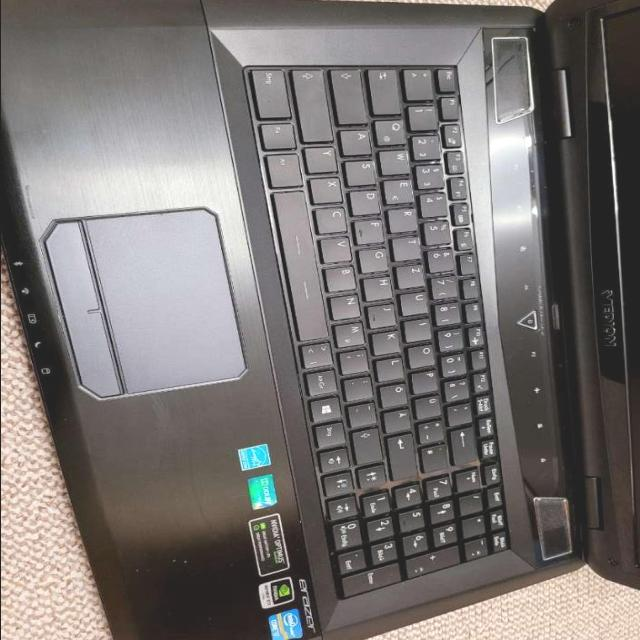0: (443, 352, 469, 376)
1: (409, 103, 441, 129)
2: (413, 132, 445, 158)
3: (417, 161, 448, 187)
4: (421, 190, 451, 215)
5: (425, 218, 454, 243)
6: (429, 246, 457, 271)
7: (433, 274, 461, 298)
8: (437, 300, 463, 324)
9: (439, 326, 467, 350)
a: (341, 126, 375, 154)
accent: (448, 401, 476, 425)
ae: (385, 406, 415, 431)
alt-left: (268, 149, 307, 187)
altgr-right: (307, 370, 339, 396)
b: (326, 263, 360, 291)
c: (316, 204, 350, 232)
caret: (406, 66, 437, 98)
comma: (341, 347, 372, 373)
d: (350, 188, 384, 214)
del: (451, 425, 480, 465)
e: (385, 176, 417, 202)
enter: (389, 431, 421, 480)
f: (355, 217, 387, 243)
g: (360, 246, 391, 272)
h: (365, 274, 395, 300)
hash: (423, 442, 451, 472)
i: (406, 317, 435, 341)
j: (368, 302, 399, 327)
k: (373, 329, 404, 354)
keyboard: (233, 43, 519, 608)
l: (377, 355, 407, 380)
less: (302, 339, 336, 367)
m: (337, 320, 369, 346)
minus: (349, 400, 380, 426)
n: (332, 292, 364, 318)
o: (408, 343, 437, 367)
oe: (381, 381, 410, 406)
p: (413, 368, 441, 392)
plus: (419, 418, 447, 442)
point: (346, 374, 377, 400)
q: (376, 116, 408, 144)
r: (389, 206, 420, 231)
s: (346, 157, 380, 185)
shift-left: (295, 68, 337, 141)
shift-lock: (332, 66, 370, 122)
shift-right: (354, 426, 386, 463)
space: (274, 189, 334, 340)
ss: (445, 377, 473, 400)
strg-left: (252, 64, 294, 118)
strg-right: (313, 421, 347, 449)
t: (394, 235, 423, 259)
tab: (371, 66, 405, 112)
u: (401, 289, 431, 313)
ue: (416, 394, 445, 418)
v: (321, 234, 355, 262)
w: (381, 147, 413, 173)
x: (312, 174, 346, 202)
y: (307, 144, 341, 172)
z: (398, 263, 428, 287)
